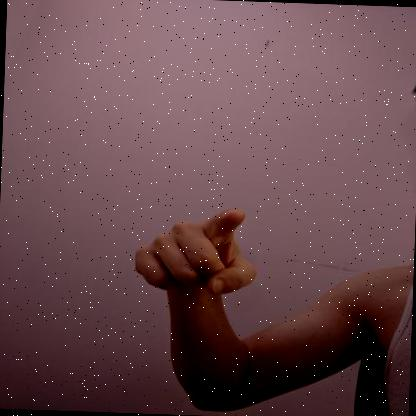Z: (135, 209, 256, 295)
